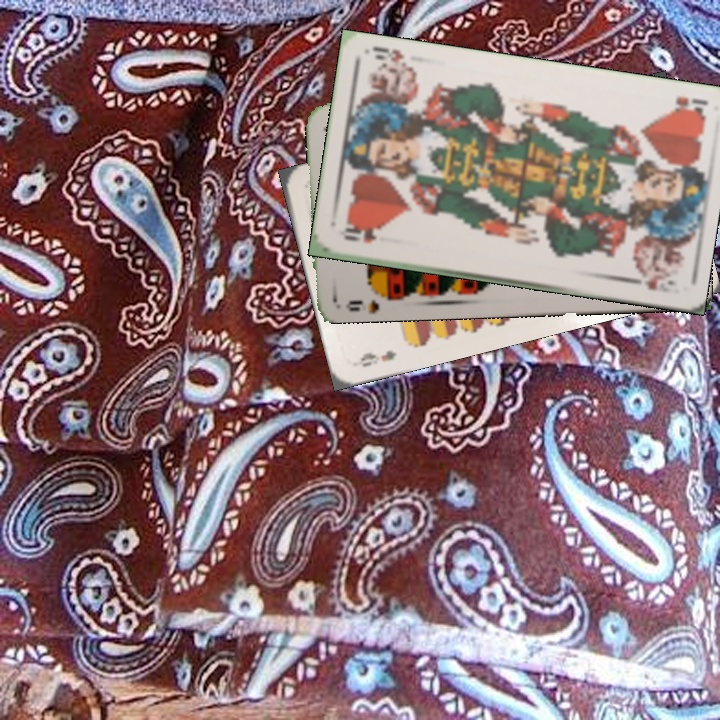E9: (356, 346, 399, 370)
HO: (666, 91, 710, 118), (336, 225, 380, 246)
S9: (342, 286, 396, 314)
